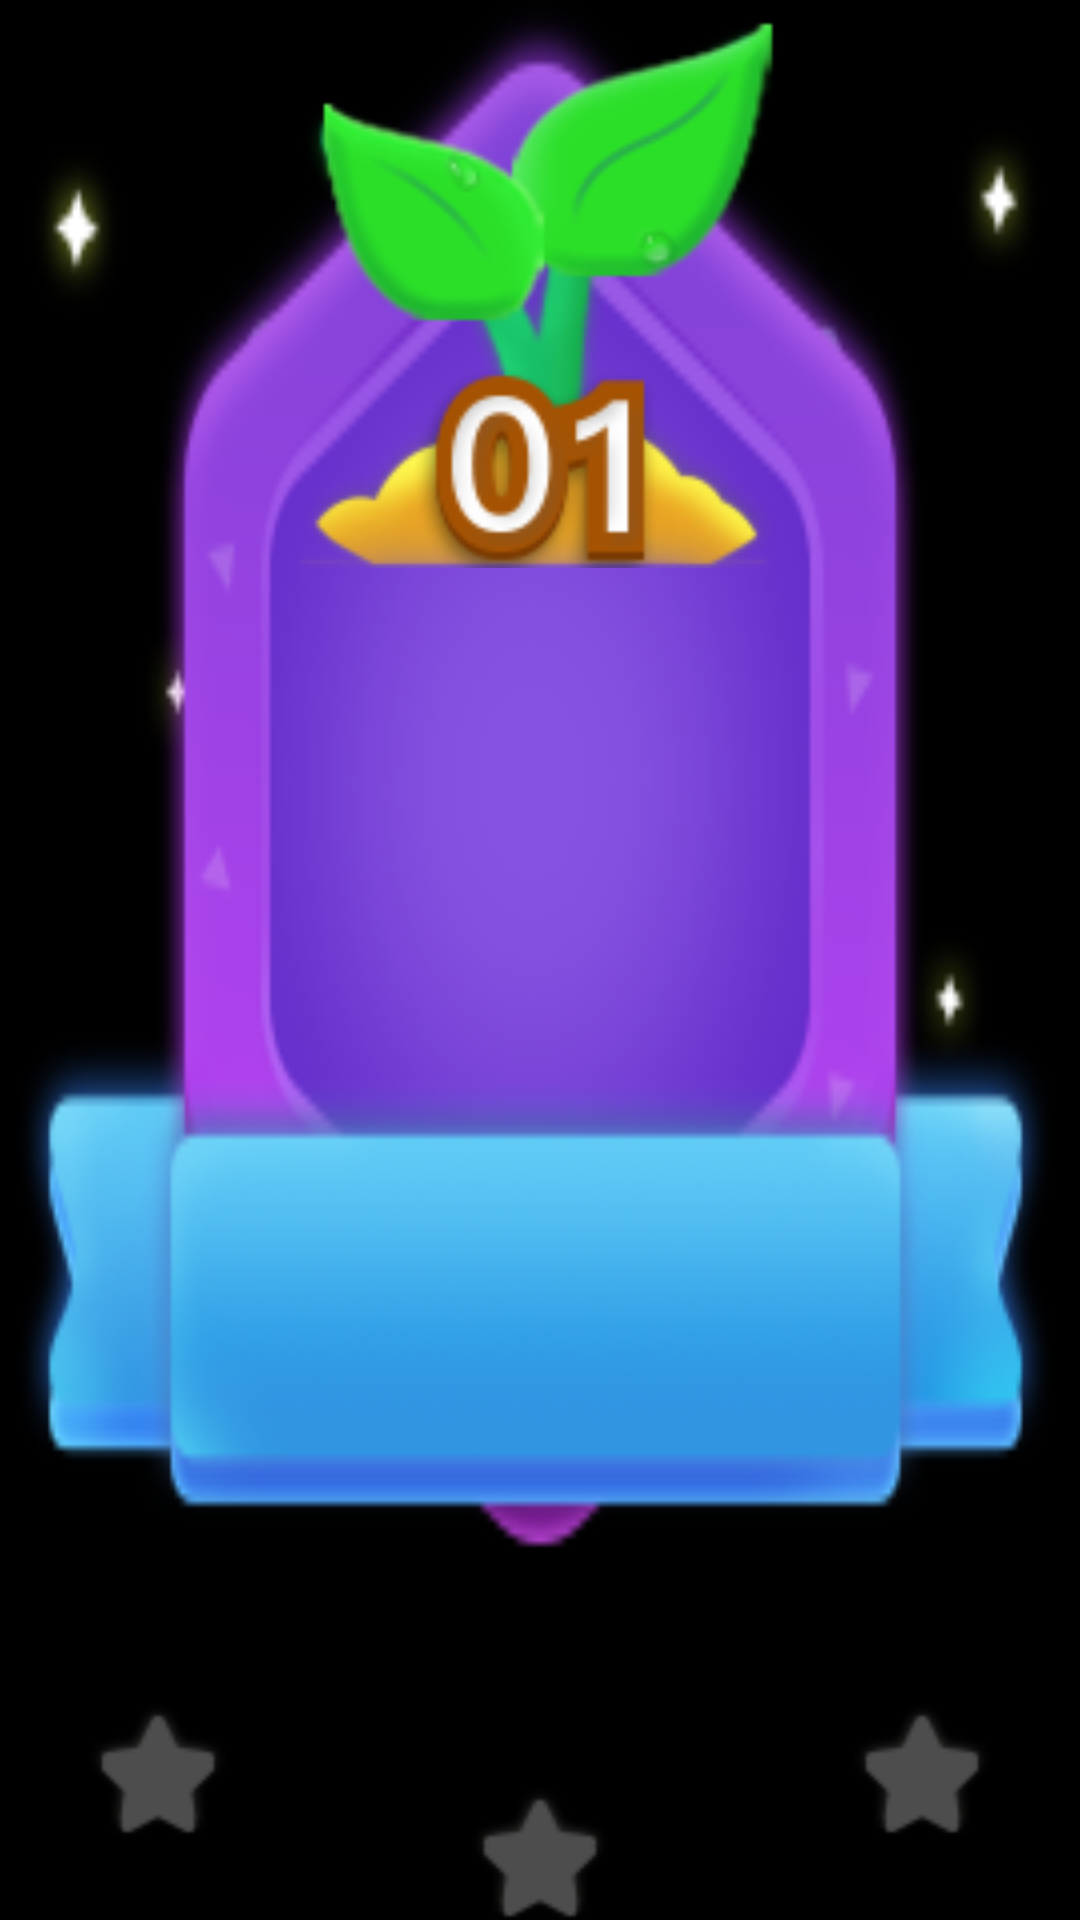

Icon click points for this 1080x1920 phone screenshot, format point (x, y):
star unlight: point (158, 1774), point (922, 1774), point (540, 1858)
